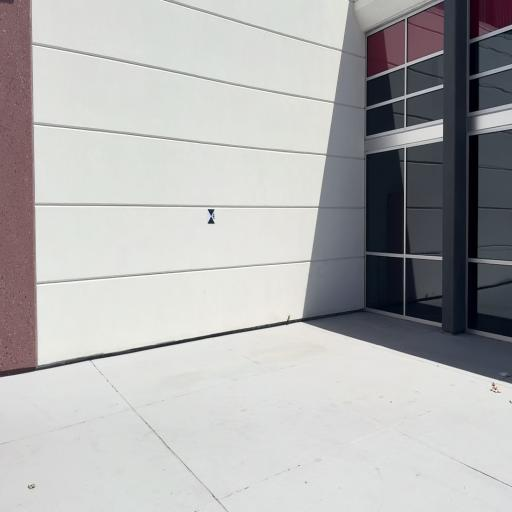target4: (207, 209, 216, 224)
